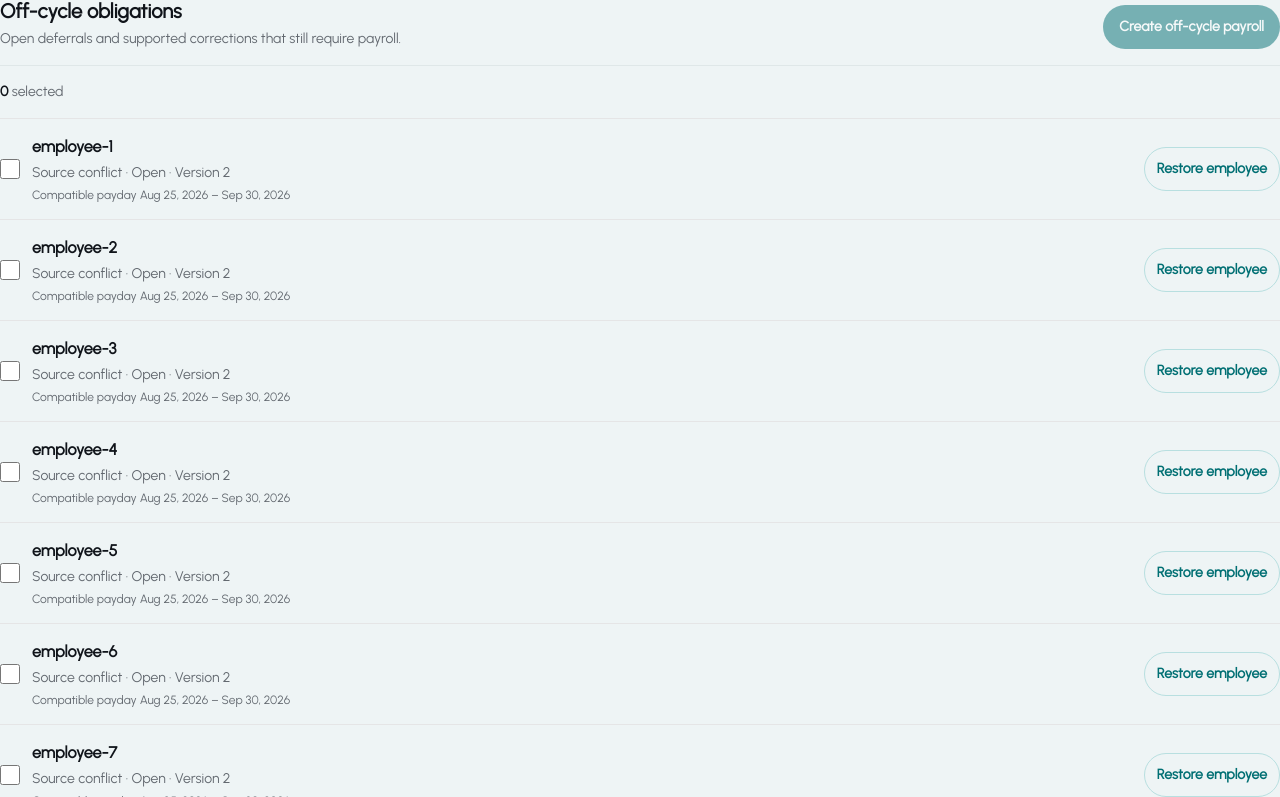
Test: PayrollObligationsPanel › closes the off-cycle dialog and drops DDD page and selection state when mode changes
Later steps or results of the test are not shown.
Step 1. Click the checkbox named "select obligation for employee-1" → (10, 169), box [0, 159, 20, 179]
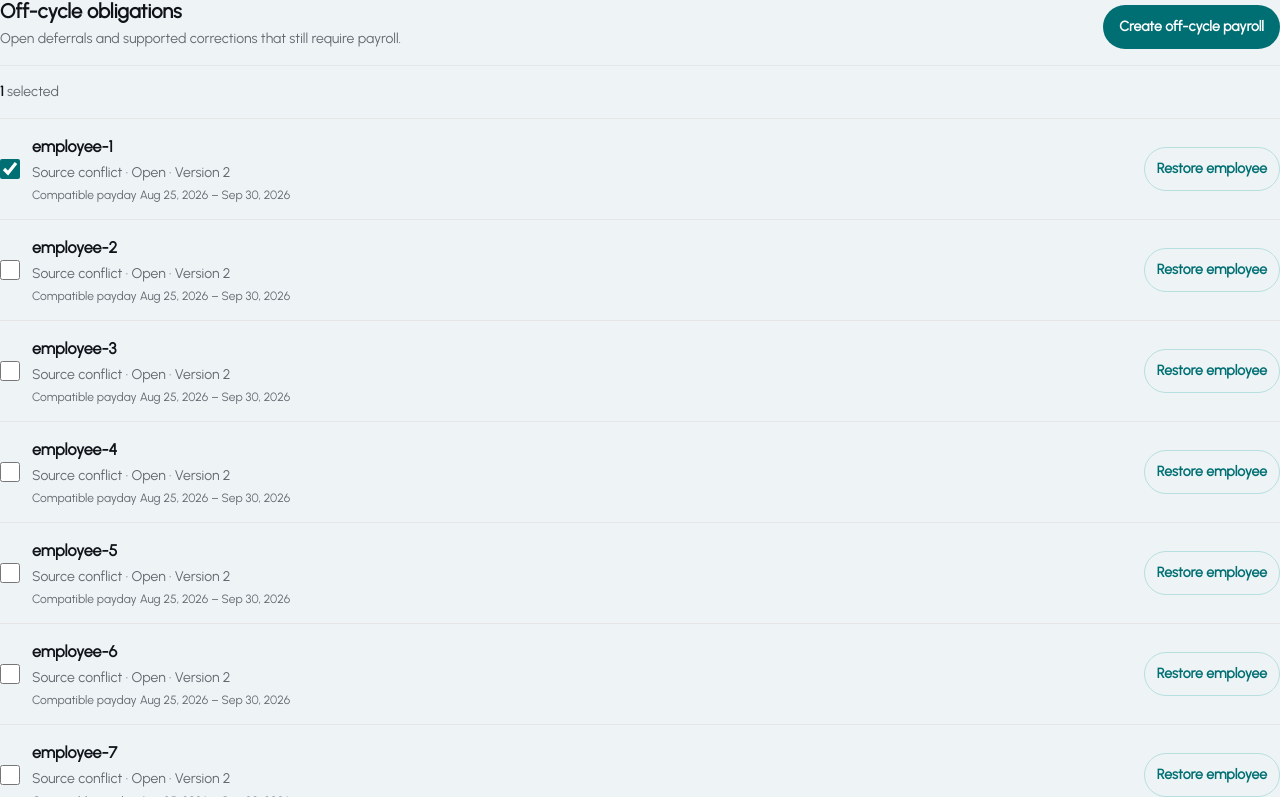
Step 2. Click the button "Create off-cycle payroll" → (1192, 27), box [1103, 5, 1279, 49]
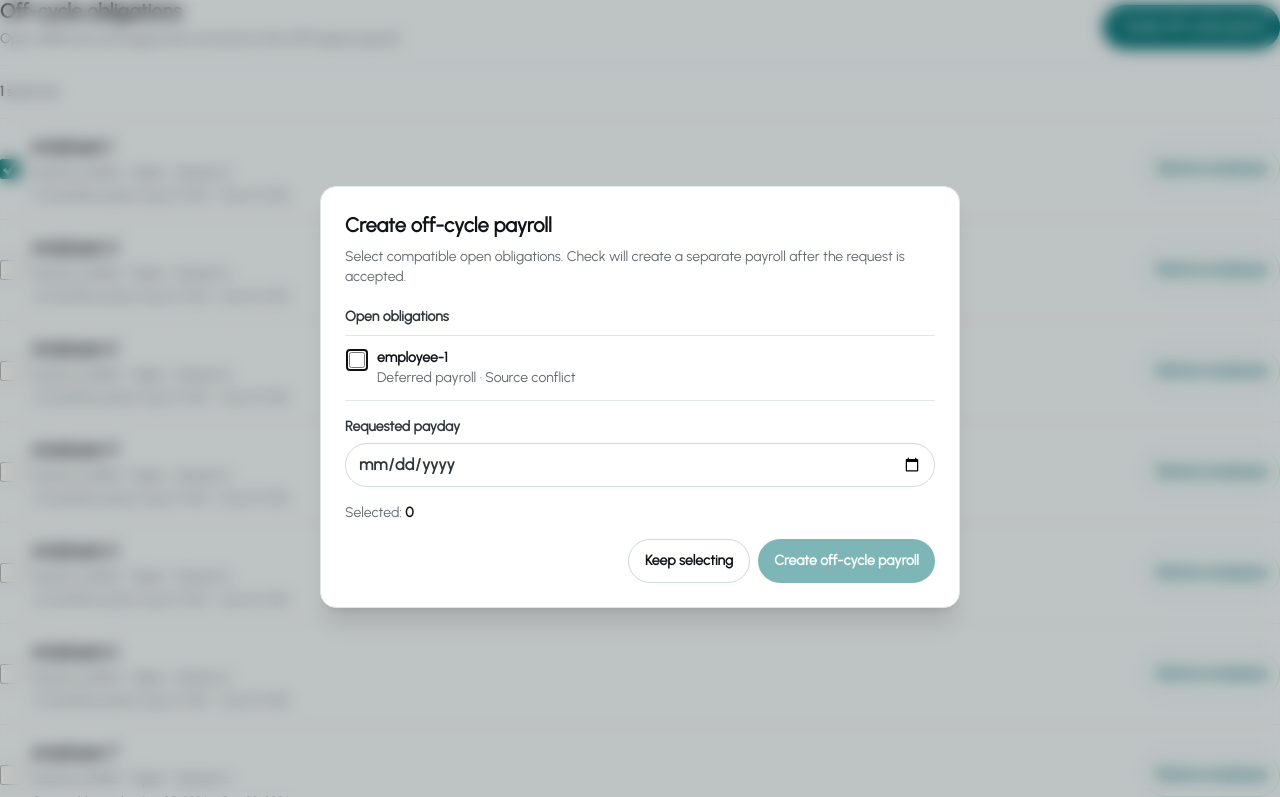
Check: the dialog "Create off-cycle payroll" is shown, box [320, 186, 960, 608]
Step 3. Click the button "Keep selecting" → (689, 561), box [628, 539, 750, 583]
(page scrolled)
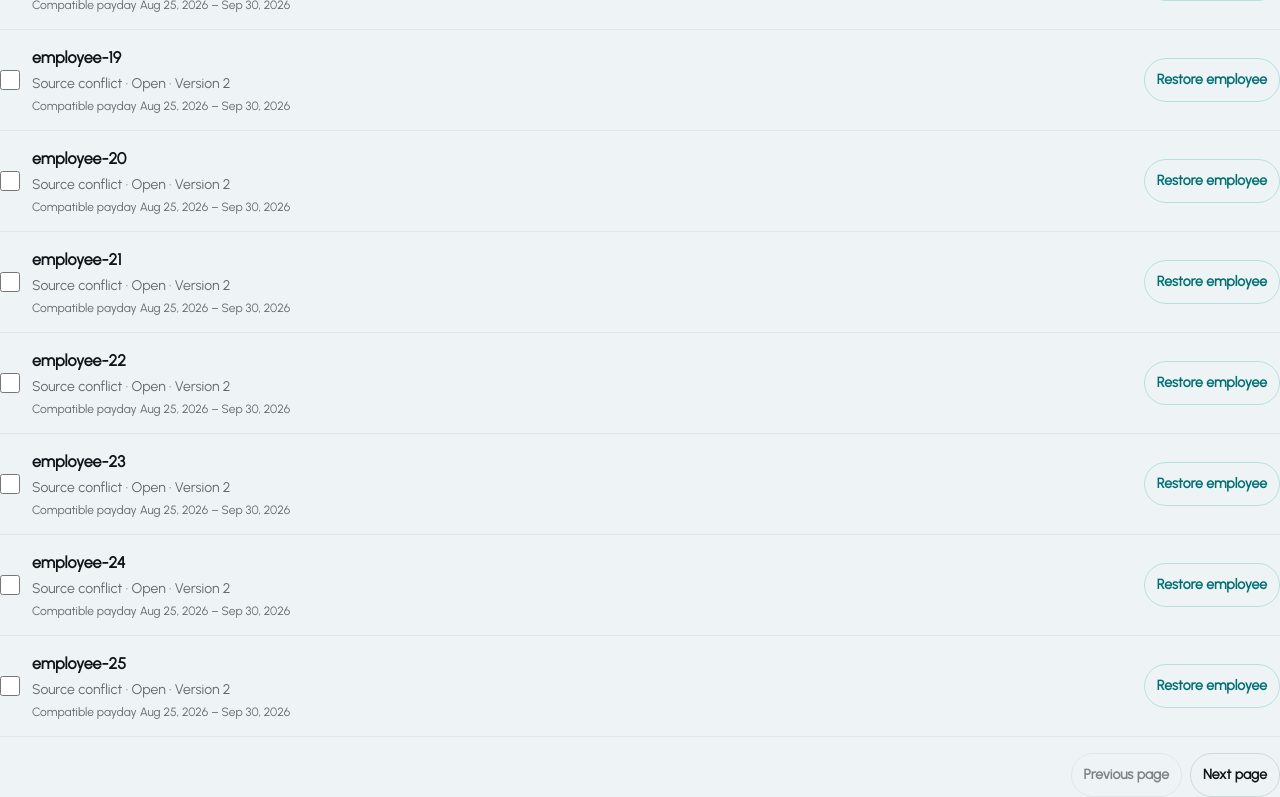
Step 4. Click the button "Next page" → (1235, 775), box [1190, 753, 1279, 796]
(page scrolled)
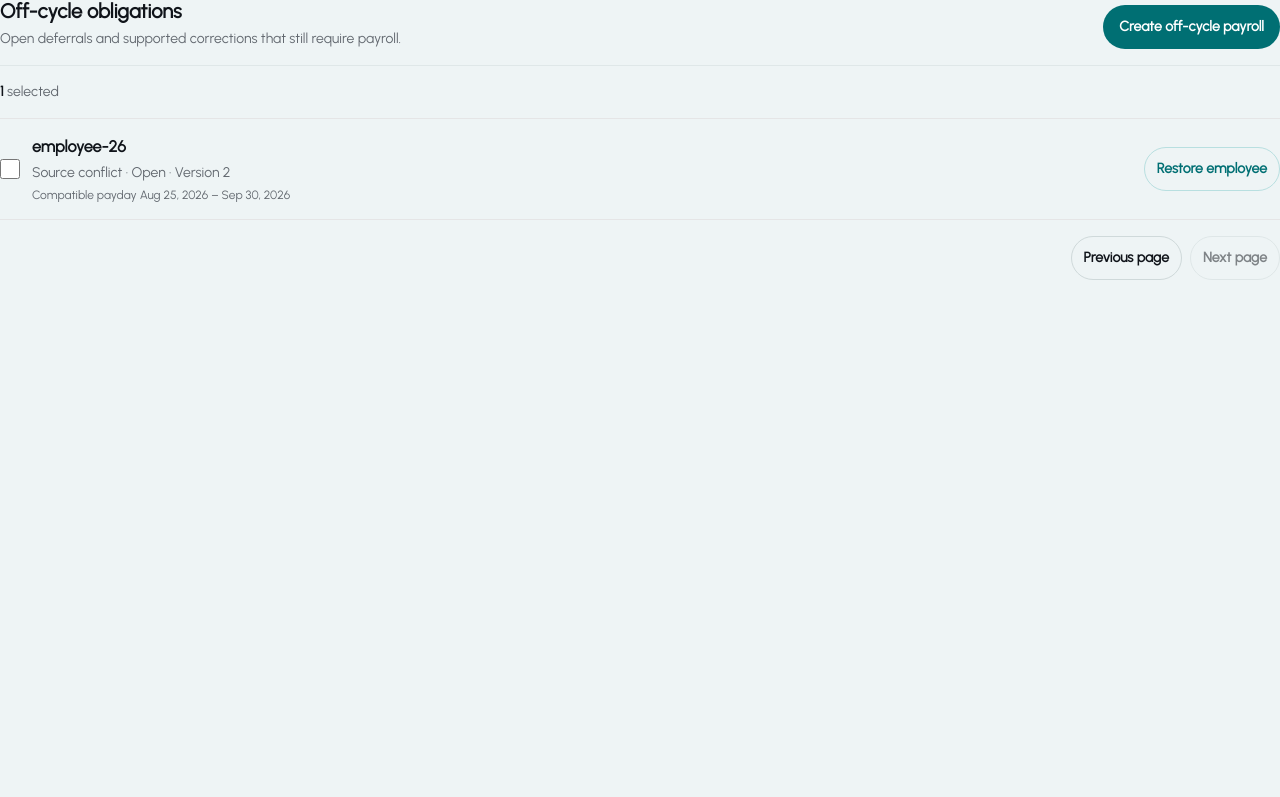
Step 5. Click the checkbox named "select obligation for employee-26" → (10, 169), box [0, 159, 20, 179]
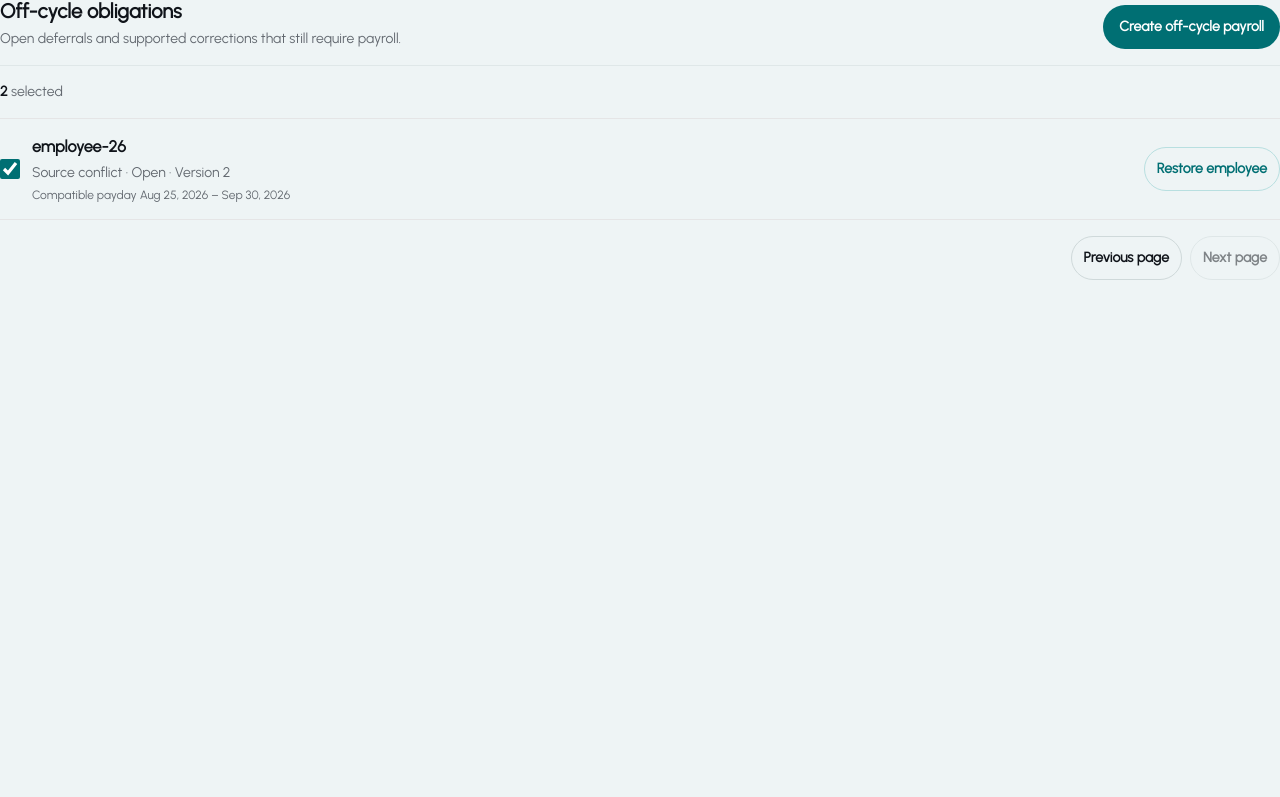
Step 6. Click the button "Create off-cycle payroll" → (1192, 27), box [1103, 5, 1279, 49]
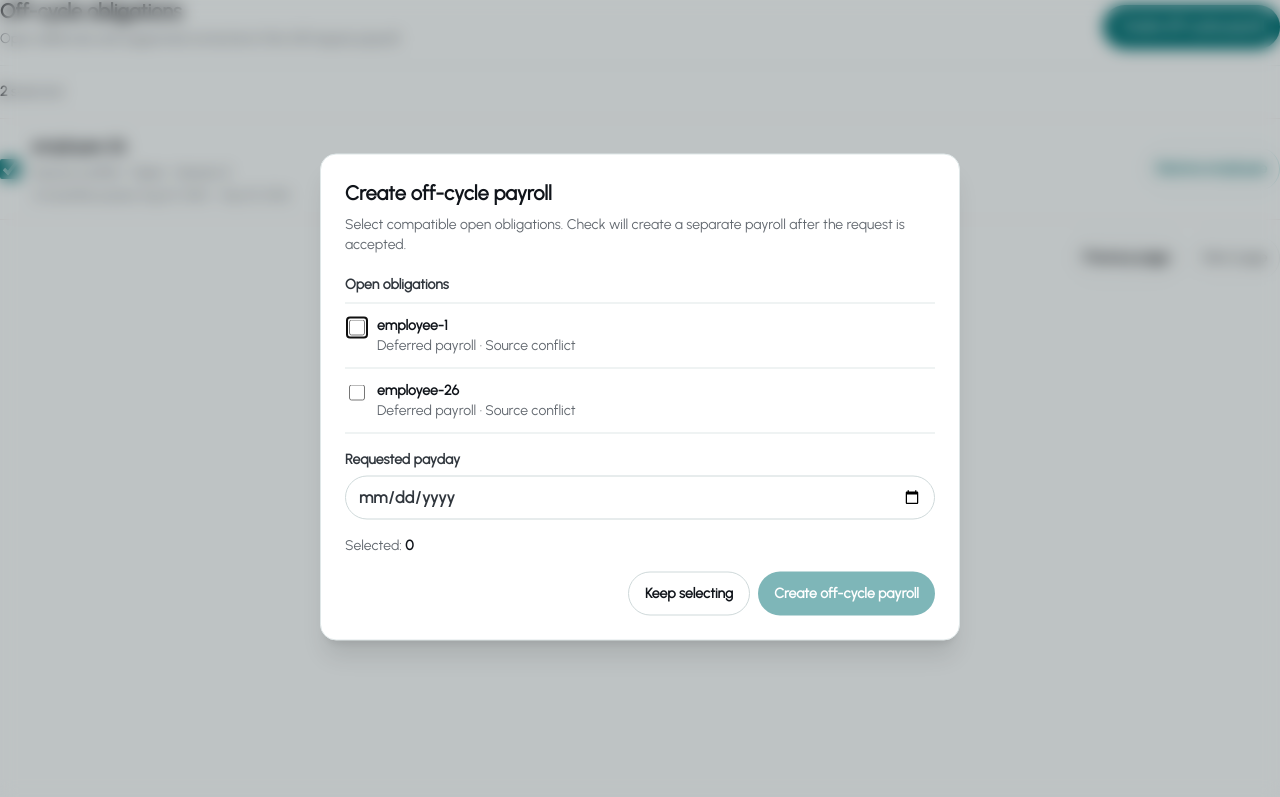
Check: the dialog "Create off-cycle payroll" is shown, box [320, 154, 960, 640]
